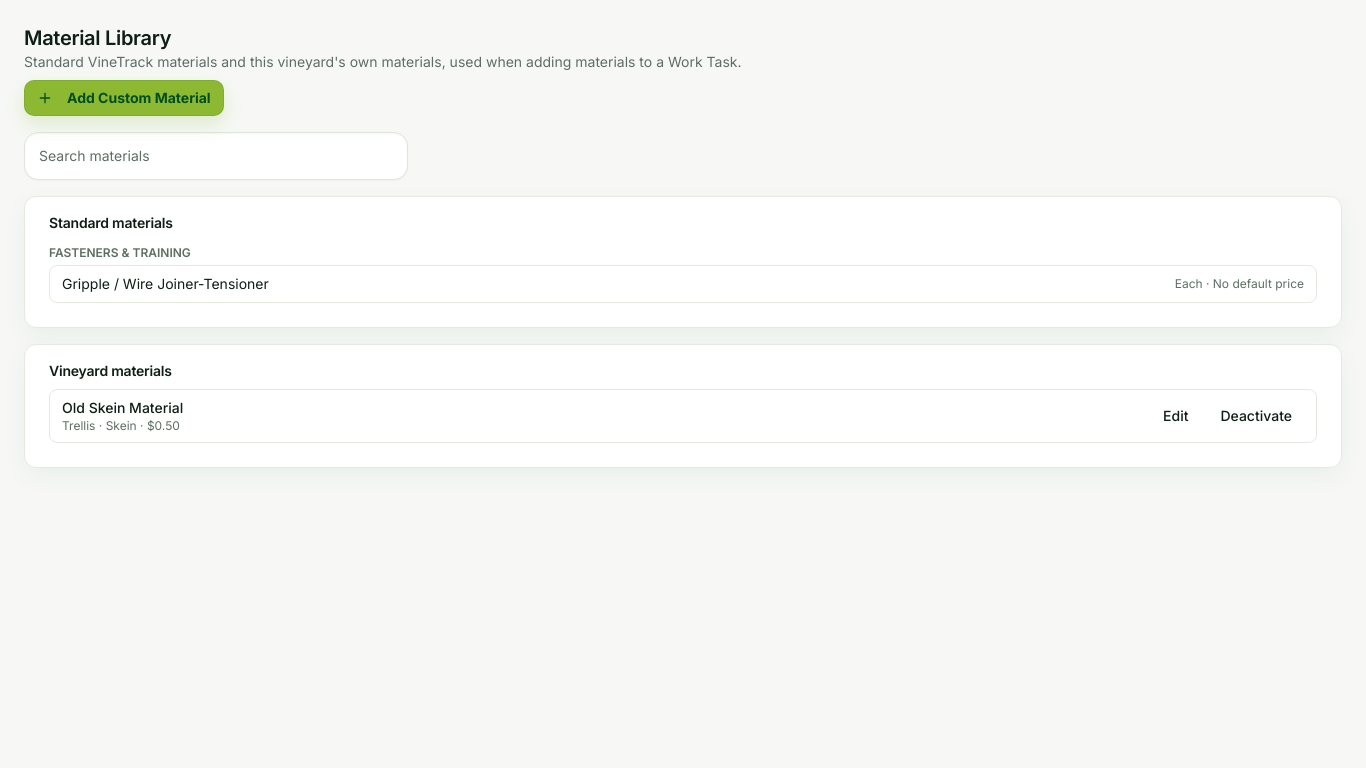
Material Library unit dropdown › offers all six units with the effective unit pre-selected for a standard override
Later steps or results of the test are not shown.
Click the text "Gripple / Wire Joiner-Tensioner": x=165, y=284 [62,274,269,294]
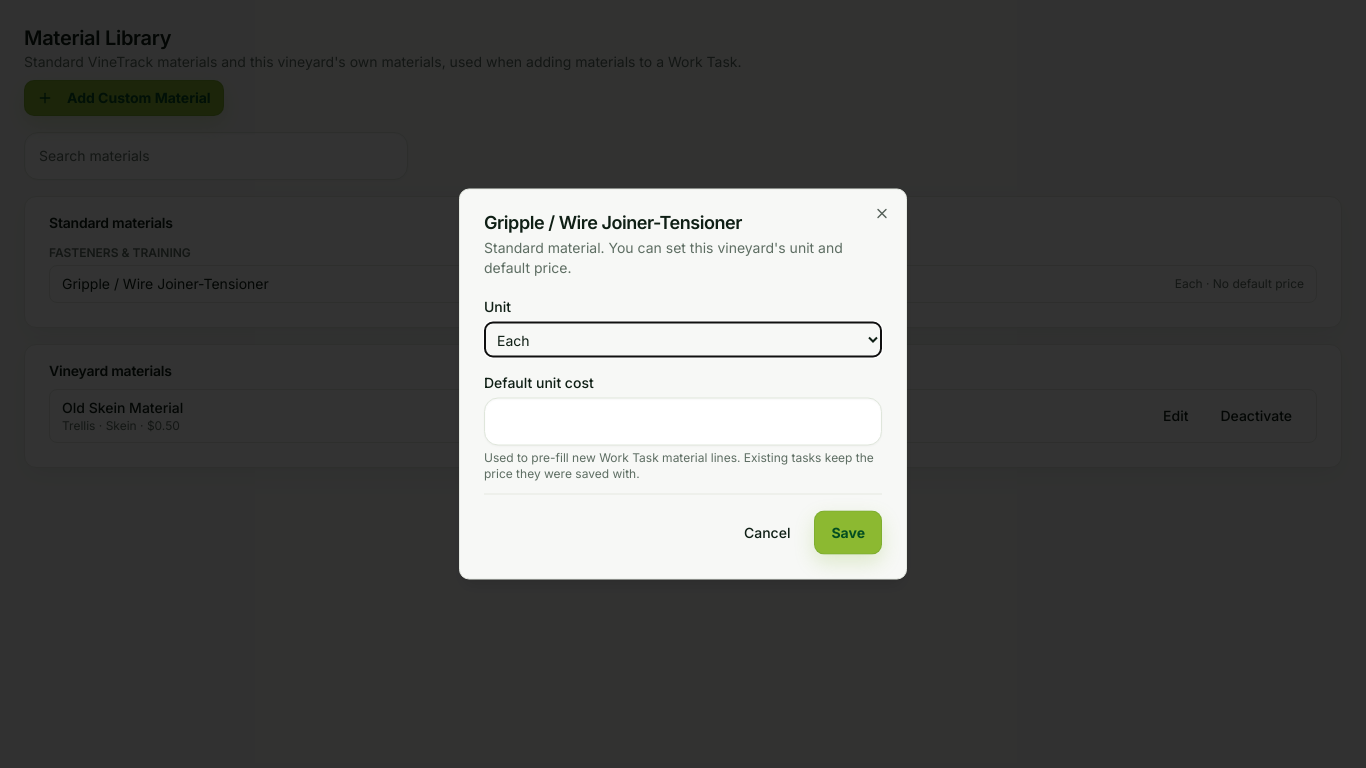
Now the dropdown with id "lib-unit" shows "Each", box [484,322,882,358]
